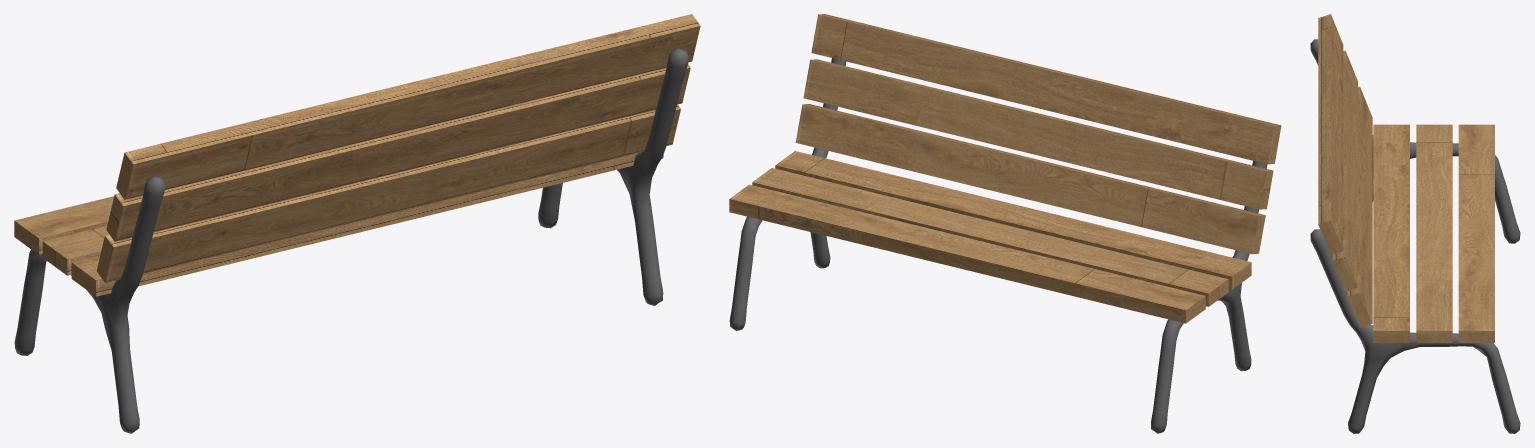
Rendered from скамейка.fbx.
The picture shows the model from 3 angles, left to right: view 1: azimuth 30°, elevation 25°; view 2: azimuth 150°, elevation 25°; view 3: azimuth 270°, elevation 25°; orthographic projection. The views are drawn at different scales.
Parts seen in each view (by area): view 1: Плоскость; view 2: Плоскость; view 3: Плоскость.
Part boxes in pixels (box(x1,y1,x2,y2)): Плоскость: box(14, 14, 700, 433); Плоскость: box(729, 14, 1281, 433); Плоскость: box(1310, 14, 1520, 433).
Size of the model in its own units: 802 by 403 by 345.
